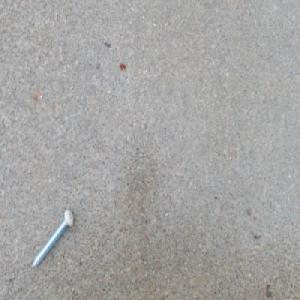Nail: (31, 209, 74, 271)
